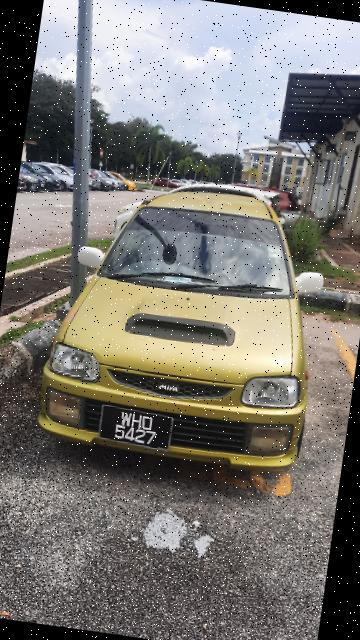License_Plate: (91, 400, 179, 455)
car: (23, 169, 345, 481)
